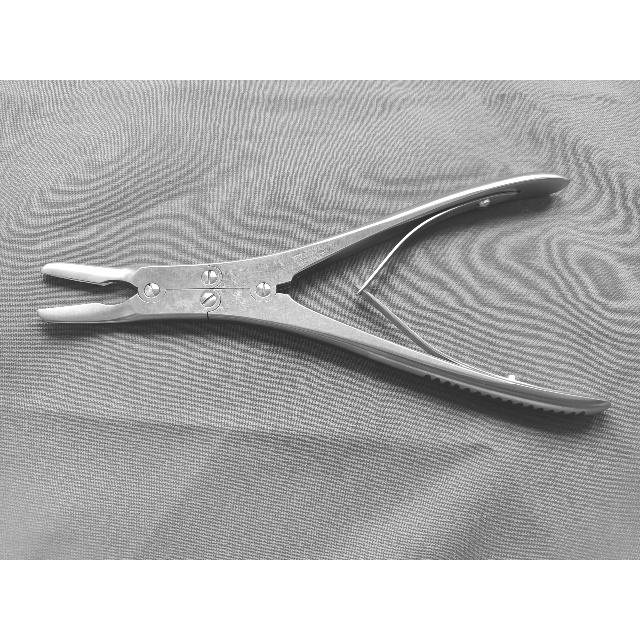gubia: (39, 175, 608, 418)
